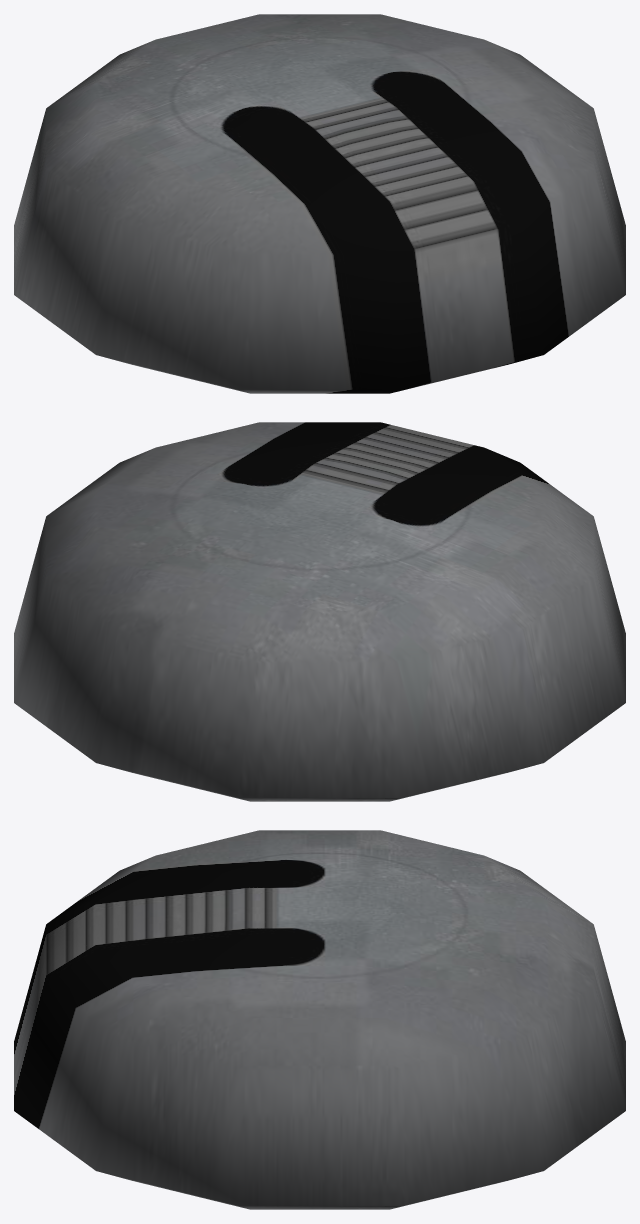
Rendered from LCATurretBase.fbx.
3 renders of one model, top to bottom at view 1: azimuth 30°, elevation 25°; view 2: azimuth 150°, elevation 25°; view 3: azimuth 270°, elevation 25°, orthographic.
Visible parts, largest first — view 1: LCATurretBase; view 2: LCATurretBase; view 3: LCATurretBase.
Boxes of the visible parts, left/top/right/bottom form: LCATurretBase: left=14, top=14, right=625, bottom=393; LCATurretBase: left=14, top=422, right=625, bottom=801; LCATurretBase: left=14, top=830, right=625, bottom=1209.
Size of the model in its own units: 119 by 41.45 by 119.
